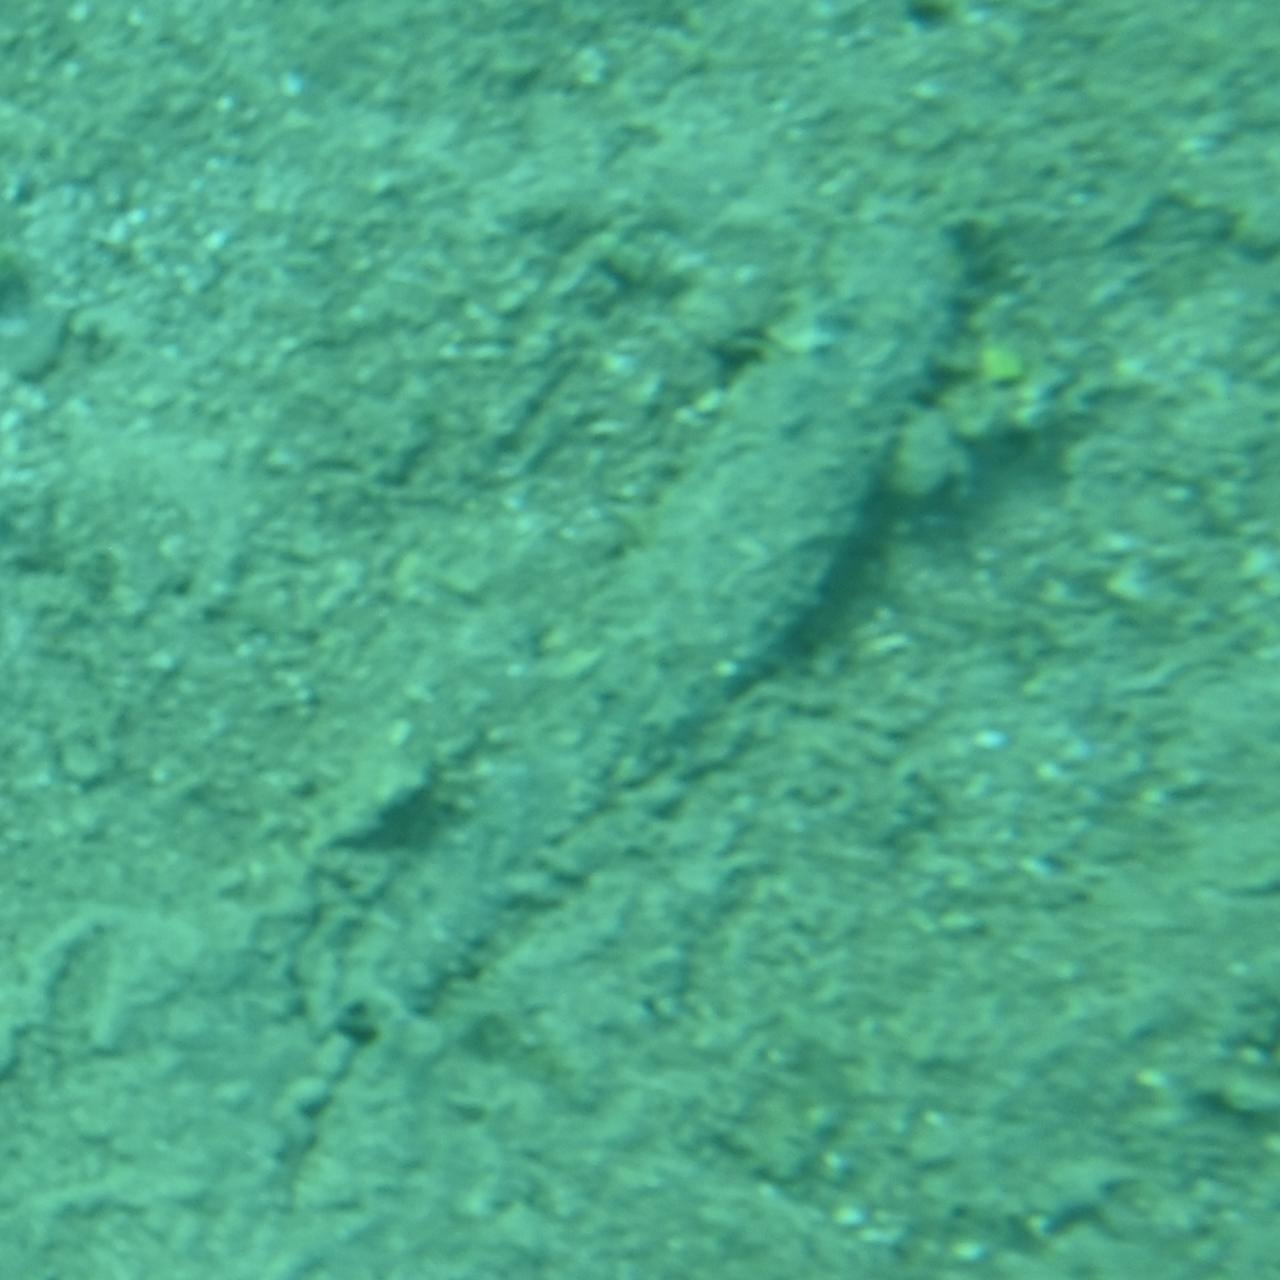Holothuria tubulosa: (293, 197, 987, 1083)
